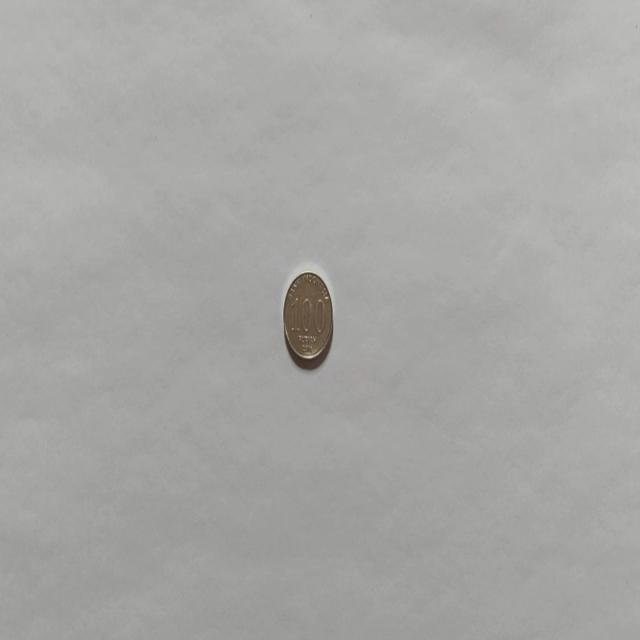seratus rupiah: (282, 269, 334, 368)
